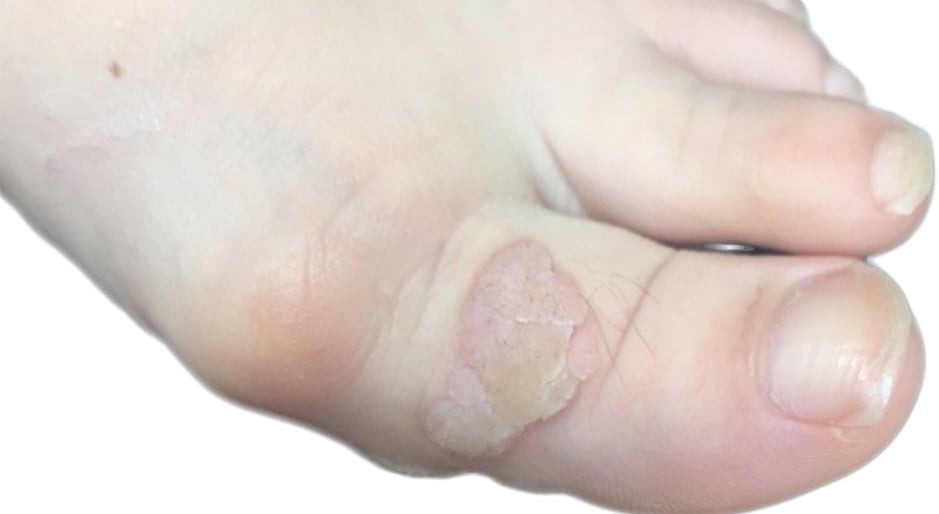Warts: (389, 238, 623, 469)
